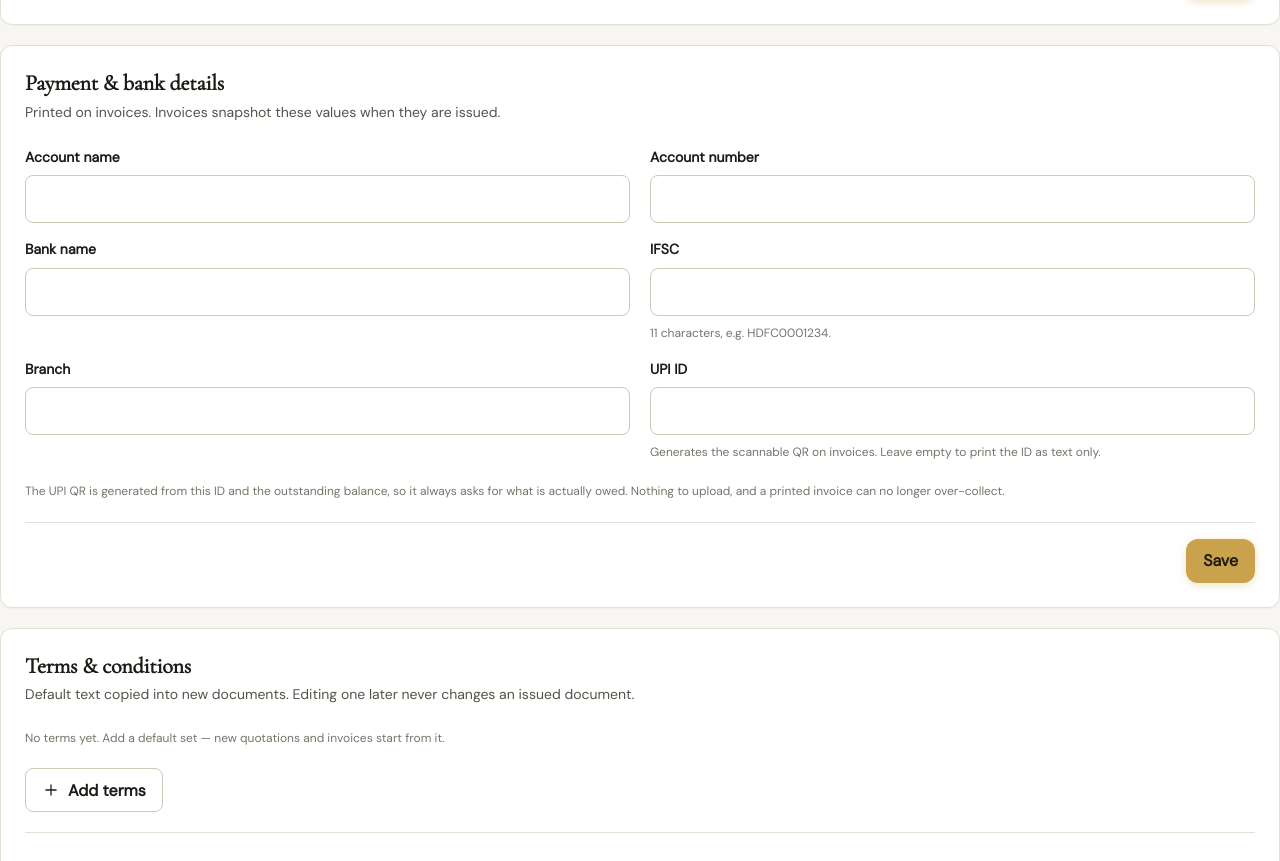
it: settings — UPI ID › rejects a VPA containing a space before any request is made
The image size is (1280, 861).
(page scrolled)
Step 1. Type "my upi@okaxis" into the field labelled "UPI ID" → [952, 411], box [650,387,1255,435]
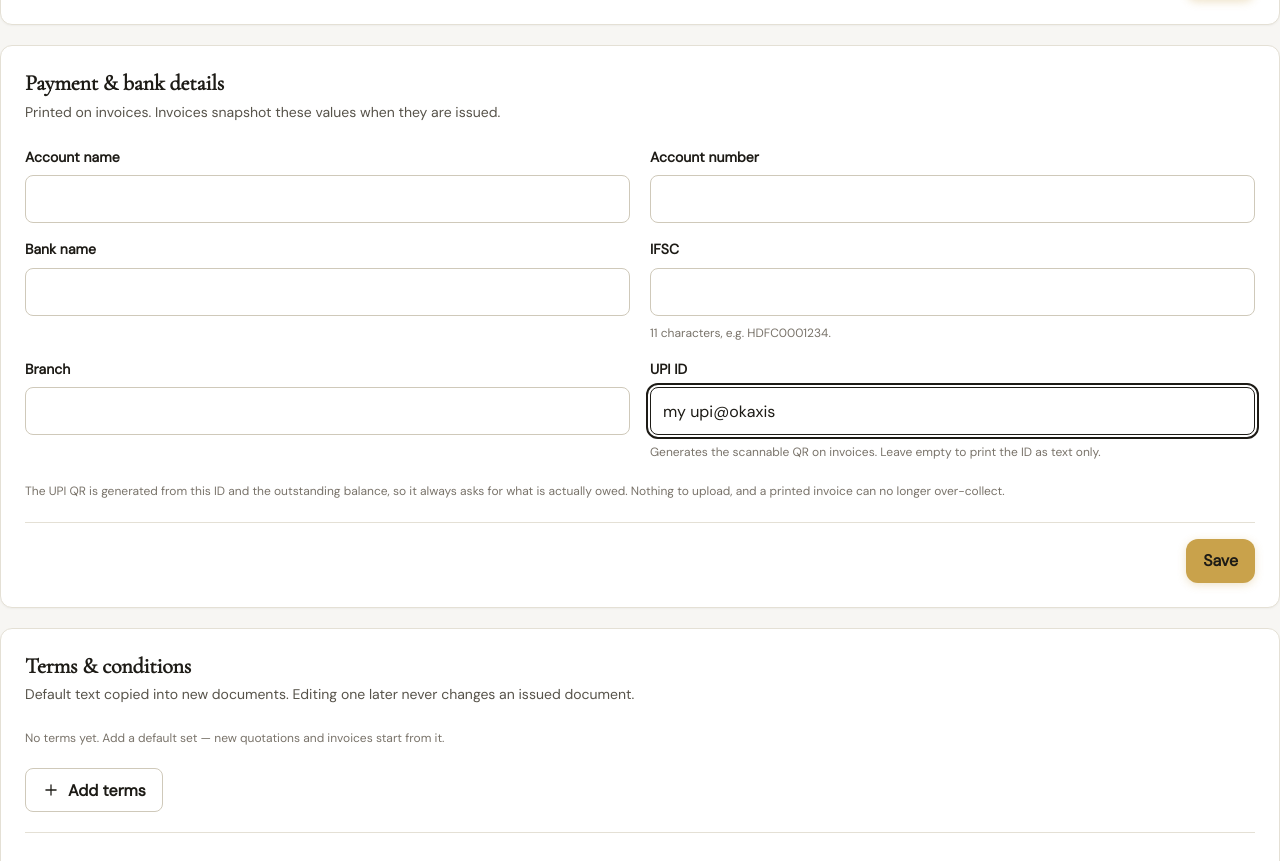
Step 2. Click the 2nd button "Save" → [1221, 560], box [1186,538,1255,582]
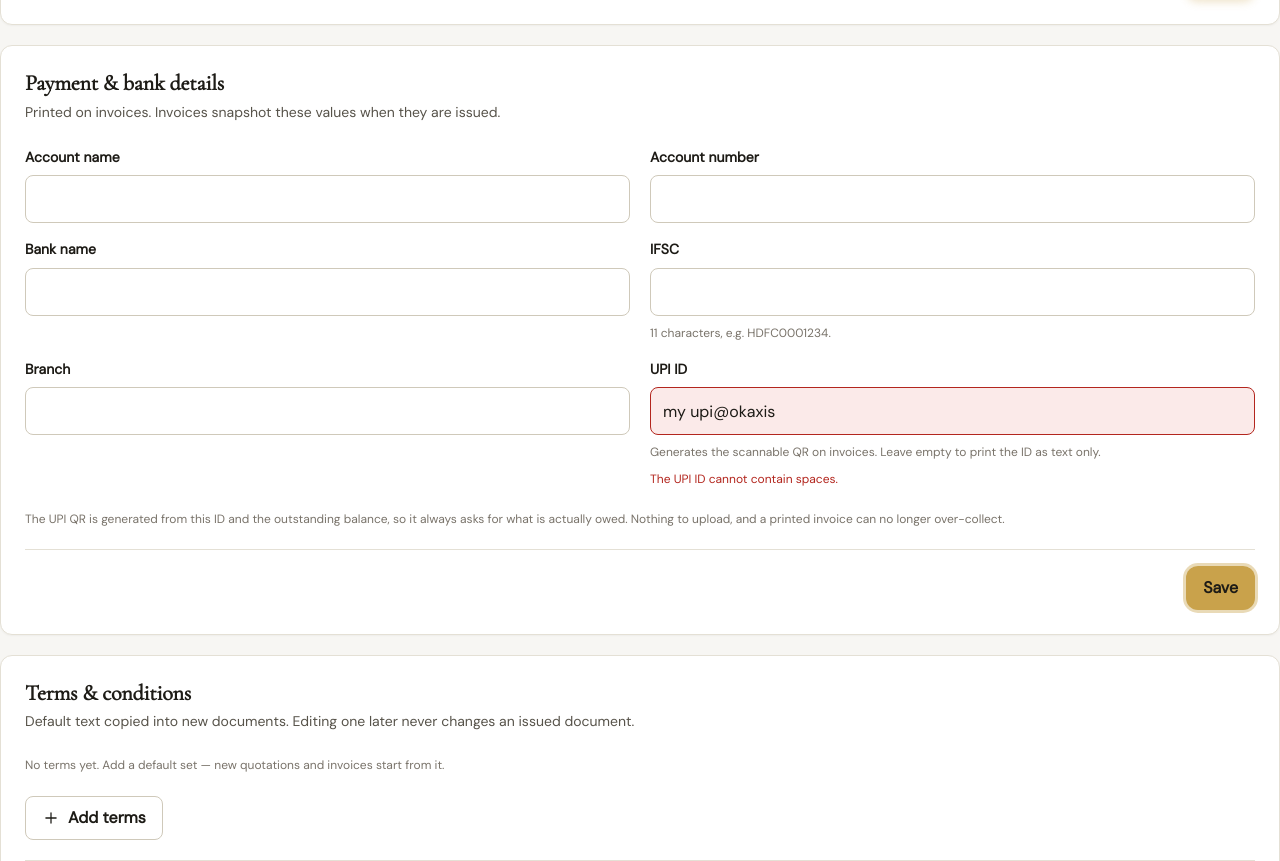
Now the text "The UPI ID cannot contain spaces." is shown, box [650,471,838,487]
